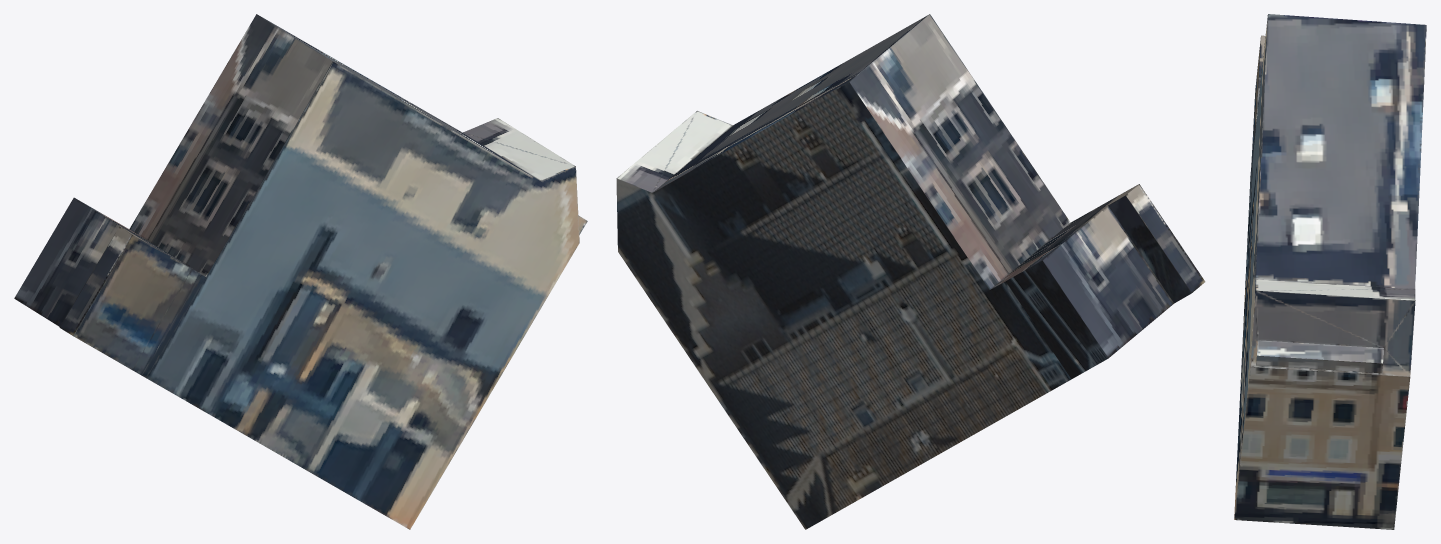
The picture shows the model from 3 angles, left to right: view 1: azimuth 30°, elevation 25°; view 2: azimuth 150°, elevation 25°; view 3: azimuth 270°, elevation 25°; orthographic projection.
Visible parts, largest first — view 1: BAG_0599100000671684 (×5); view 2: BAG_0599100000671684 (×5); view 3: BAG_0599100000671684 (×5).
Part boxes in pixels (<box>): BAG_0599100000671684 (×5): <box>14,14,587,529</box>; BAG_0599100000671684 (×5): <box>616,14,1205,529</box>; BAG_0599100000671684 (×5): <box>1234,14,1426,529</box>.
Bounding box in the file's own units: 24.19 × 21.49 × 7.72.
2 materials, 1 textured.
